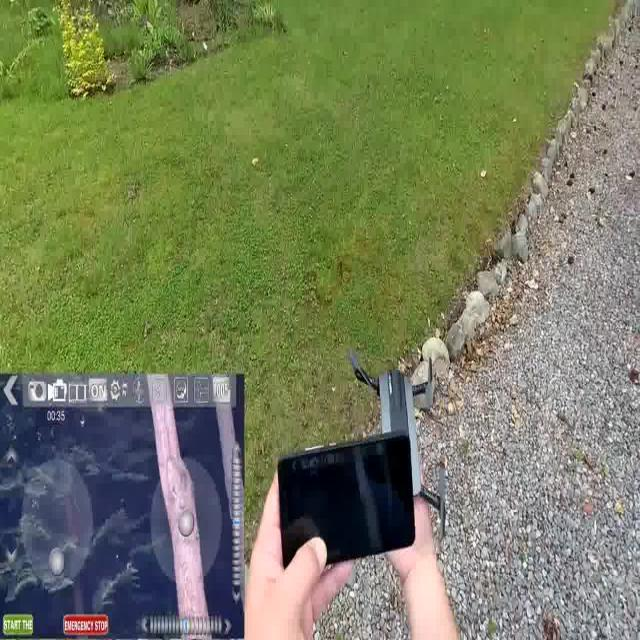drones: (341, 352, 448, 546)
